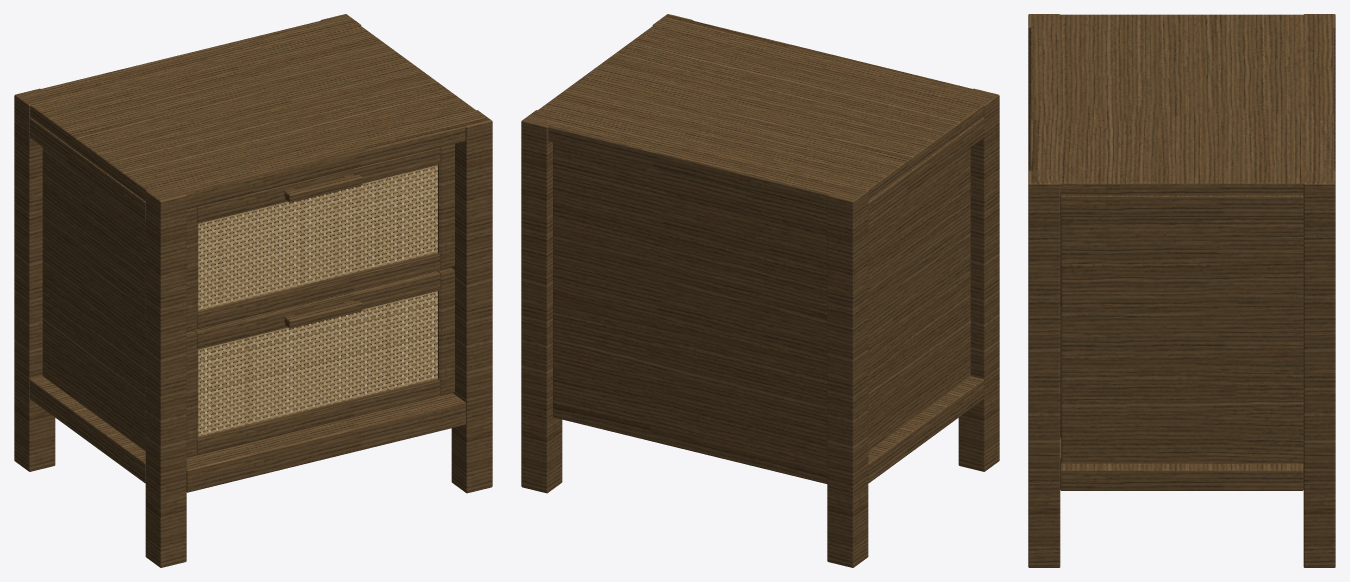
3 renders of one model, left to right at view 1: azimuth 30°, elevation 25°; view 2: azimuth 150°, elevation 25°; view 3: azimuth 270°, elevation 25°, orthographic. The views are drawn at different scales.
Parts seen in each view (by area): view 1: NEW HOI AN LV453.B41 | king-2 web batch, Bedside drawer 1 sliding pivot web batch, Bedside drawer 2 sliding pivot web batch; view 2: NEW HOI AN LV453.B41 | king-2 web batch; view 3: NEW HOI AN LV453.B41 | king-2 web batch.
Part boxes in pixels (x1=…): NEW HOI AN LV453.B41 | king-2 web batch: x1=14, y1=14, x2=492, y2=567; Bedside drawer 1 sliding pivot web batch: x1=186, y1=267, x2=454, y2=457; Bedside drawer 2 sliding pivot web batch: x1=186, y1=144, x2=454, y2=331; NEW HOI AN LV453.B41 | king-2 web batch: x1=521, y1=14, x2=999, y2=567; NEW HOI AN LV453.B41 | king-2 web batch: x1=1028, y1=14, x2=1335, y2=567.
Size of the model in its own units: 0.55 by 0.58 by 0.42.
5 materials, 2 textured.
